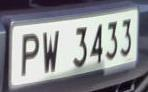3: (71, 22, 90, 72), (104, 18, 121, 63), (119, 16, 133, 57)
4: (88, 19, 105, 67)
P: (18, 28, 43, 78)
W: (40, 28, 63, 78)
